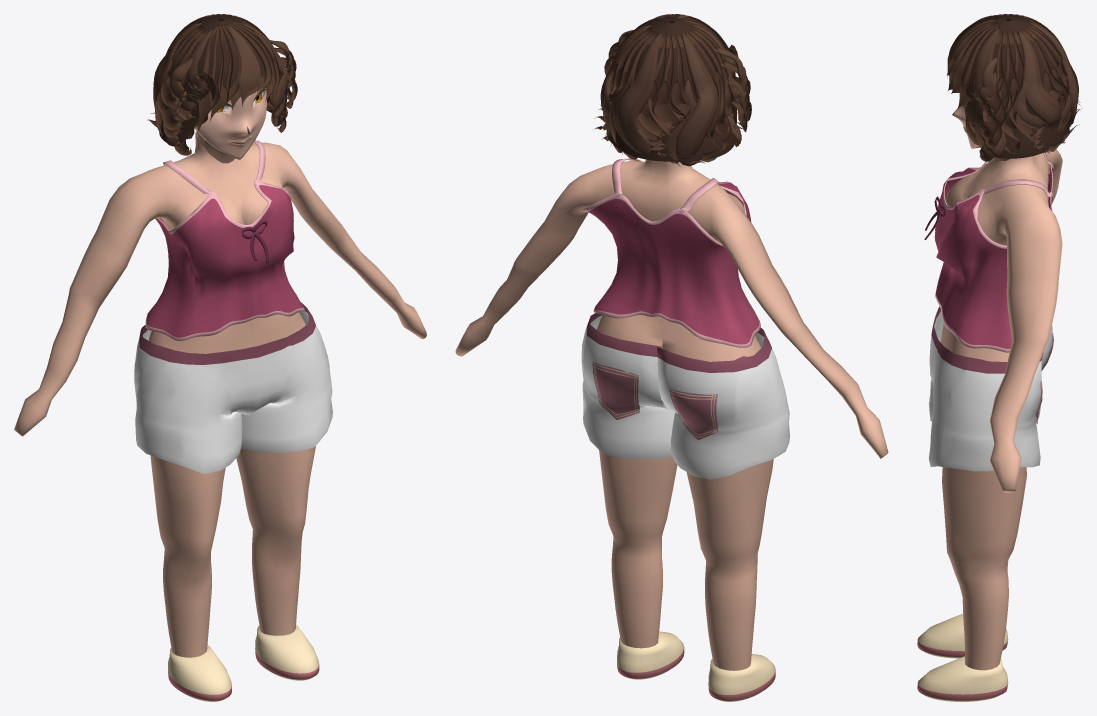
The model's file is full.glb.
The picture shows the model from 3 angles, left to right: view 1: azimuth 30°, elevation 25°; view 2: azimuth 150°, elevation 25°; view 3: azimuth 270°, elevation 25°; orthographic projection. The views are drawn at different scales.
Parts seen in each view (by area): view 1: Body, Shorts, Dress, Locks, Face, Slipper.001, Slipper, Hair; view 2: Body, Shorts, Dress, Locks, Hair, Slipper.001, Slipper, PocketR, PocketL; view 3: Body, Locks, Dress, Shorts, Hair, Slipper.001, Slipper.
Part boxes in pixels (x1,y1,x2,y2): Body: (14,131,426,657); Shorts: (134,302,332,473); Dress: (145,140,304,340); Locks: (147,14,297,155); Face: (194,86,266,163); Slipper.001: (255,624,319,680); Slipper: (168,645,231,701); Hair: (159,16,282,146); Body: (455,159,888,670); Shorts: (581,313,789,479); Dress: (580,158,760,347); Locks: (593,14,751,166); Hair: (607,17,735,161); Slipper.001: (617,631,684,679); Slipper: (708,654,775,701); PocketR: (592,361,639,419); PocketL: (669,388,717,440); Body: (941,149,1062,670); Locks: (947,14,1082,161); Dress: (934,152,1053,352); Shorts: (928,306,1052,471); Hair: (960,16,1069,158); Slipper.001: (917,656,1008,701); Slipper: (917,614,1008,658).
Size of the model in its own units: 1.37 by 2.04 by 0.4686.
